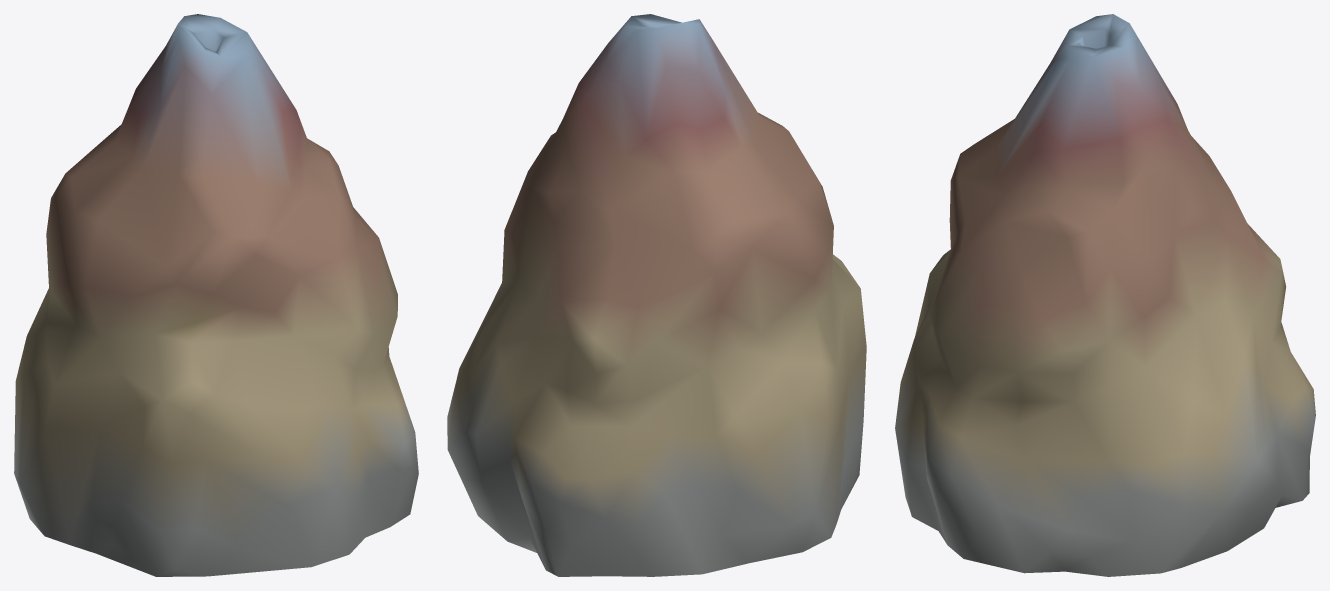
The picture shows the model from 3 angles, left to right: view 1: azimuth 30°, elevation 25°; view 2: azimuth 150°, elevation 25°; view 3: azimuth 270°, elevation 25°; orthographic projection. The views are drawn at different scales.
Parts seen in each view (by area): view 1: G:\FFXIV-MapTools\exports\n4f2\bg\ex3\01_nvt_n4\fld\n4f2\bgp; view 2: G:\FFXIV-MapTools\exports\n4f2\bg\ex3\01_nvt_n4\fld\n4f2\bgp; view 3: G:\FFXIV-MapTools\exports\n4f2\bg\ex3\01_nvt_n4\fld\n4f2\bgp.
Part boxes in pixels (x1,y1,x2,y2): G:\FFXIV-MapTools\exports\n4f2\bg\ex3\01_nvt_n4\fld\n4f2\bgp: [14, 14, 418, 576]; G:\FFXIV-MapTools\exports\n4f2\bg\ex3\01_nvt_n4\fld\n4f2\bgp: [447, 14, 866, 576]; G:\FFXIV-MapTools\exports\n4f2\bg\ex3\01_nvt_n4\fld\n4f2\bgp: [895, 14, 1315, 576].
Size of the model in its own units: 15.34 by 20.29 by 16.5.
